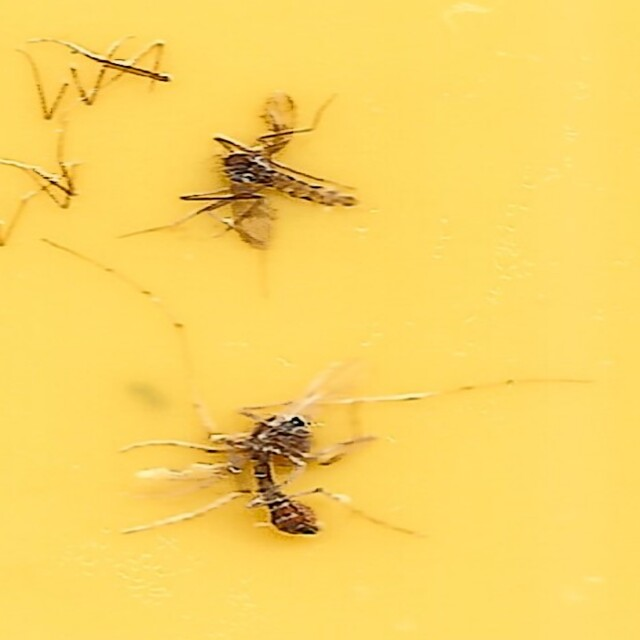Nematocera: (138, 378, 502, 546), (200, 94, 355, 249)
